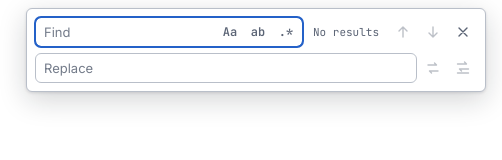
Test: FindBar › replaces one match and then all matches
Type "cache" into the field with test id "find-input".
click(126, 32); type("cache")  # box x1=36 y1=18 x2=215 y2=46
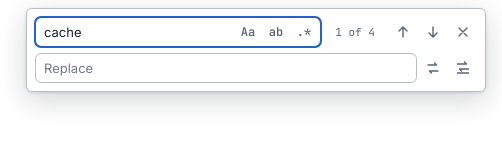
Type "memo" into the field with test id "replace-input".
click(224, 68); type("memo")  # box x1=36 y1=54 x2=413 y2=82
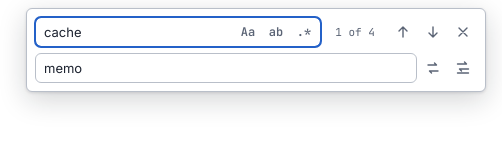
Click the button with test id "find-replace-one".
click(433, 68)  # box x1=419 y1=54 x2=447 y2=82
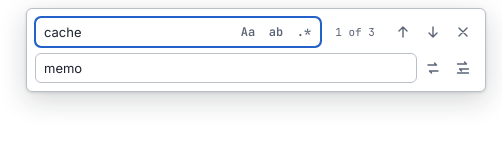
Click the button with test id "find-replace-all".
click(463, 68)  # box x1=449 y1=54 x2=477 y2=82
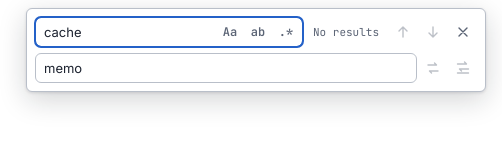
Expected: the text with test id "find-count" reads "No results", x1=313 y1=24 x2=379 y2=38
